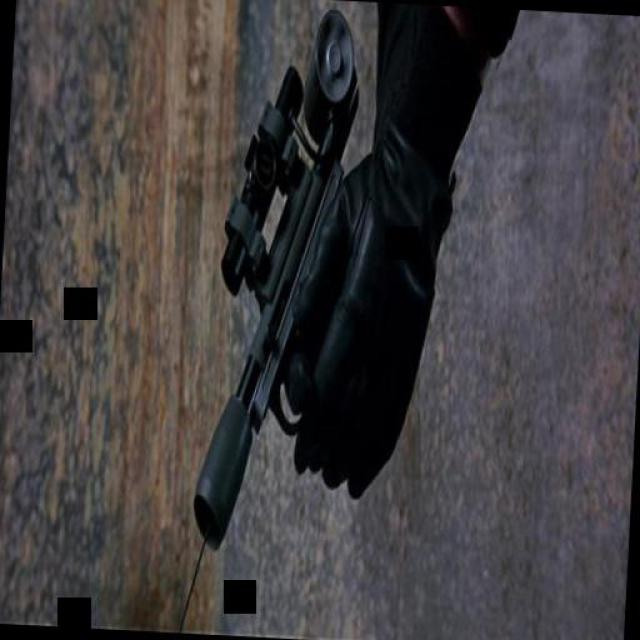gun: (175, 0, 403, 568)
